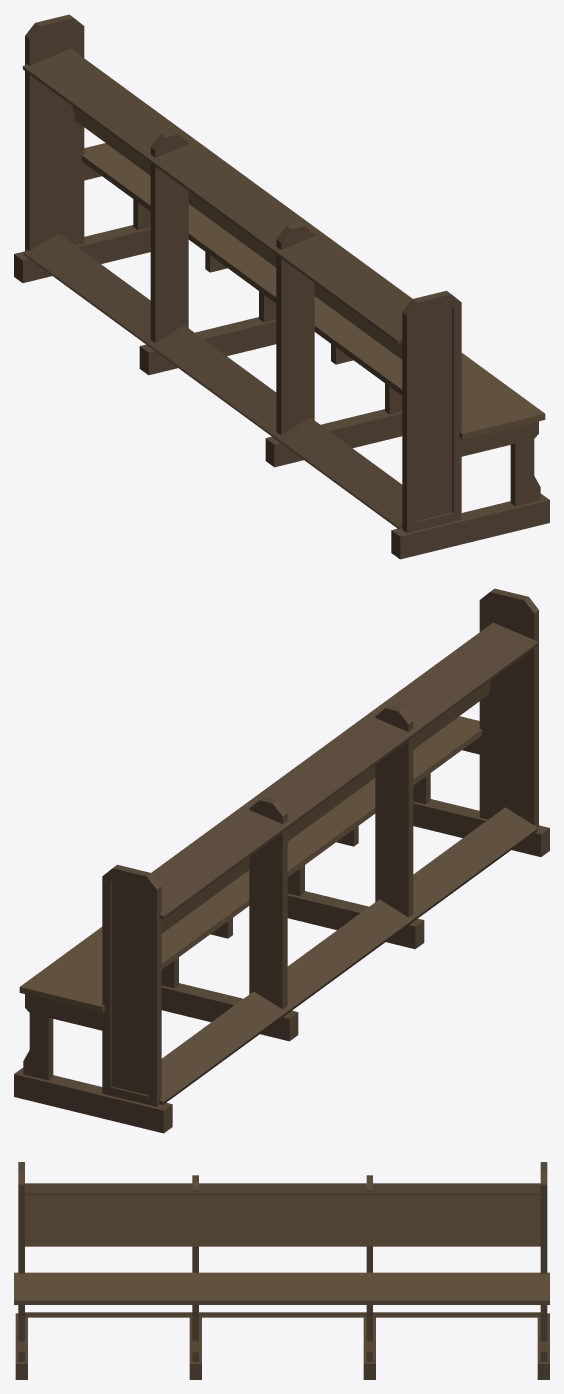
The model's file is SM_churchBench.glb.
The picture shows the model from 3 angles, top to bottom: view 1: azimuth 30°, elevation 25°; view 2: azimuth 150°, elevation 25°; view 3: azimuth 270°, elevation 25°; orthographic projection. The views are drawn at different scales.
Parts seen in each view (by area): view 1: SM_churchBench; view 2: SM_churchBench; view 3: SM_churchBench.
Part boxes in pixels (box(x1,y1,x2,y2)): SM_churchBench: box(14, 14, 549, 559); SM_churchBench: box(14, 588, 549, 1133); SM_churchBench: box(14, 1162, 549, 1379).
Bounding box in the file's own units: 0.6877 × 1.1 × 3.08.
1 material, 1 textured.
